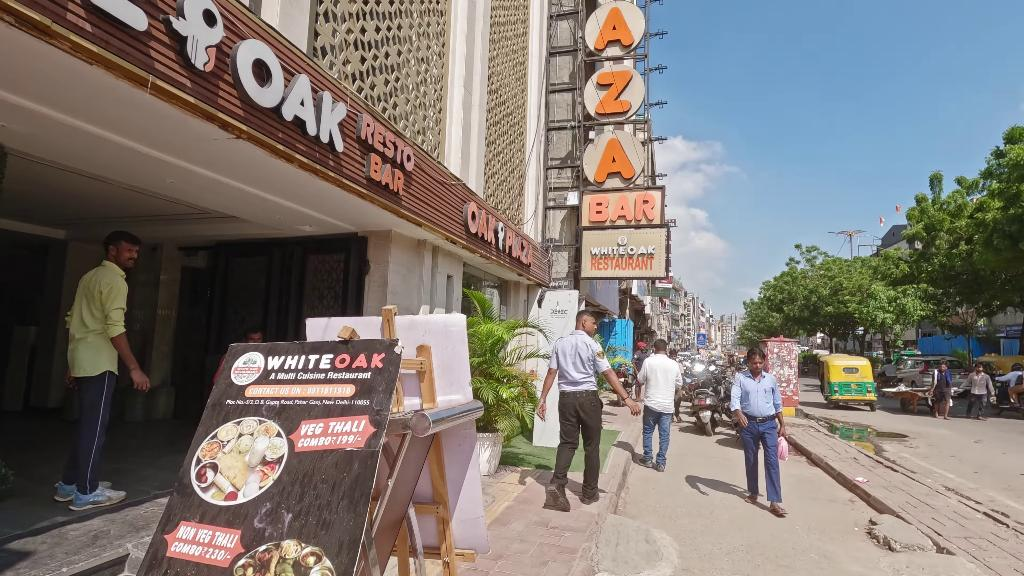garbage: (777, 433, 790, 462), (854, 476, 869, 484)
